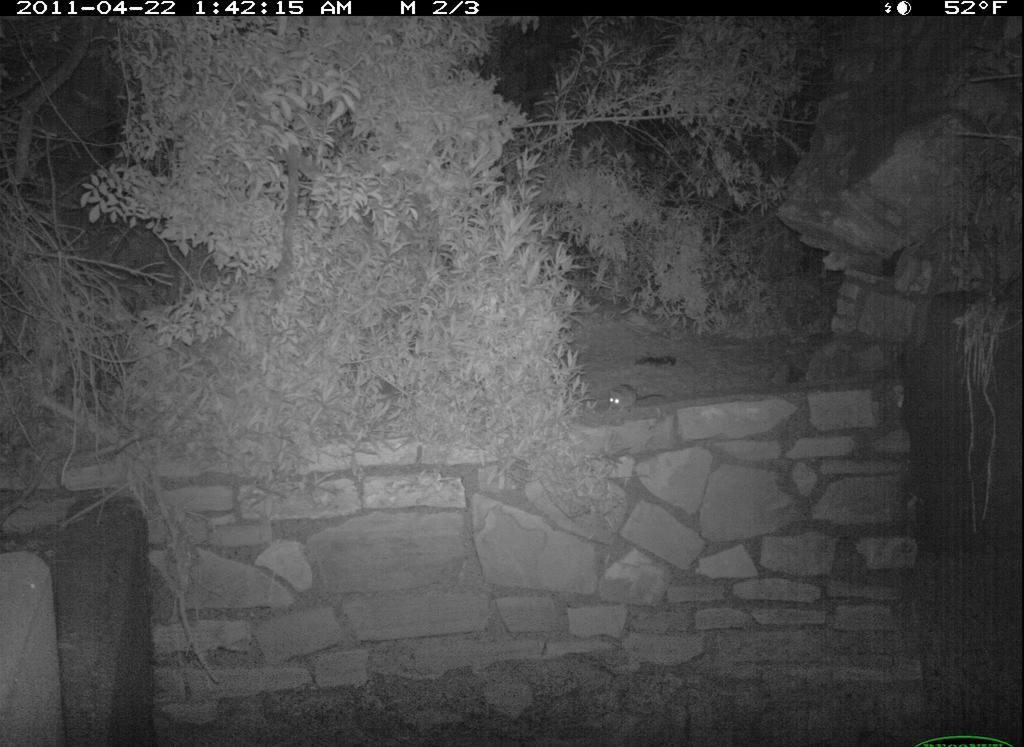rodent: (600, 379, 676, 423)
